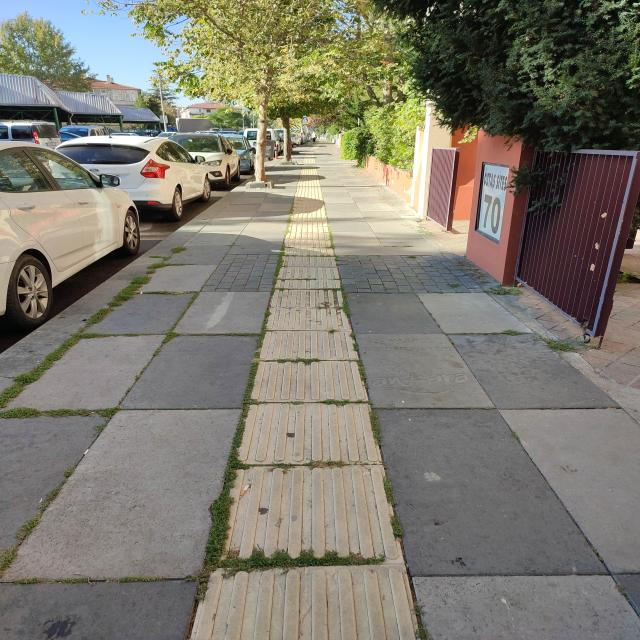sidewalk: (2, 146, 638, 640)
